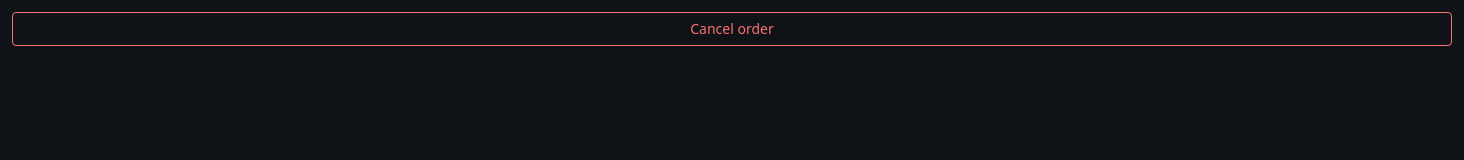
Scenario: CancelOrderAction › shows a network failure as an error
Click the button "Cancel order" at (732, 29), box [12,12,1452,46]
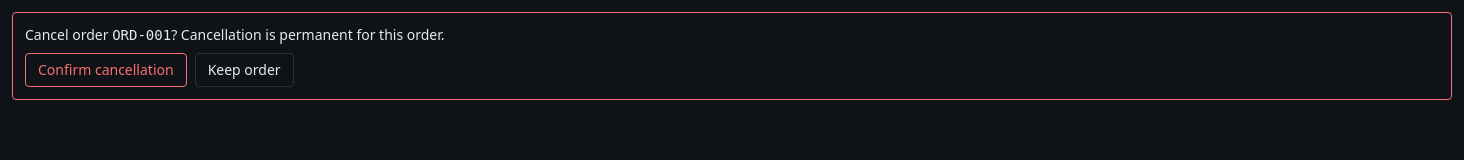
Click the button "Confirm cancellation" at (106, 70), box [25,53,187,87]
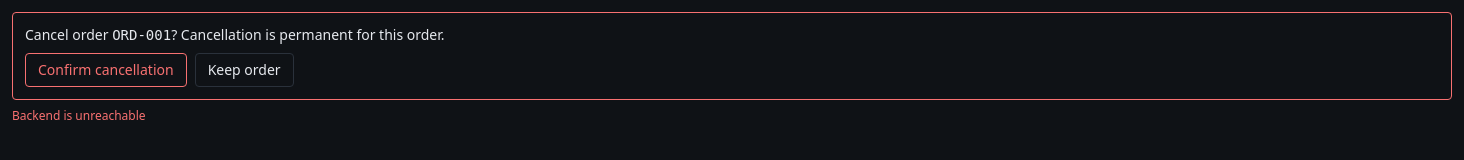
Expected: the message "Backend is unreachable" is shown, [12,107,146,124]
